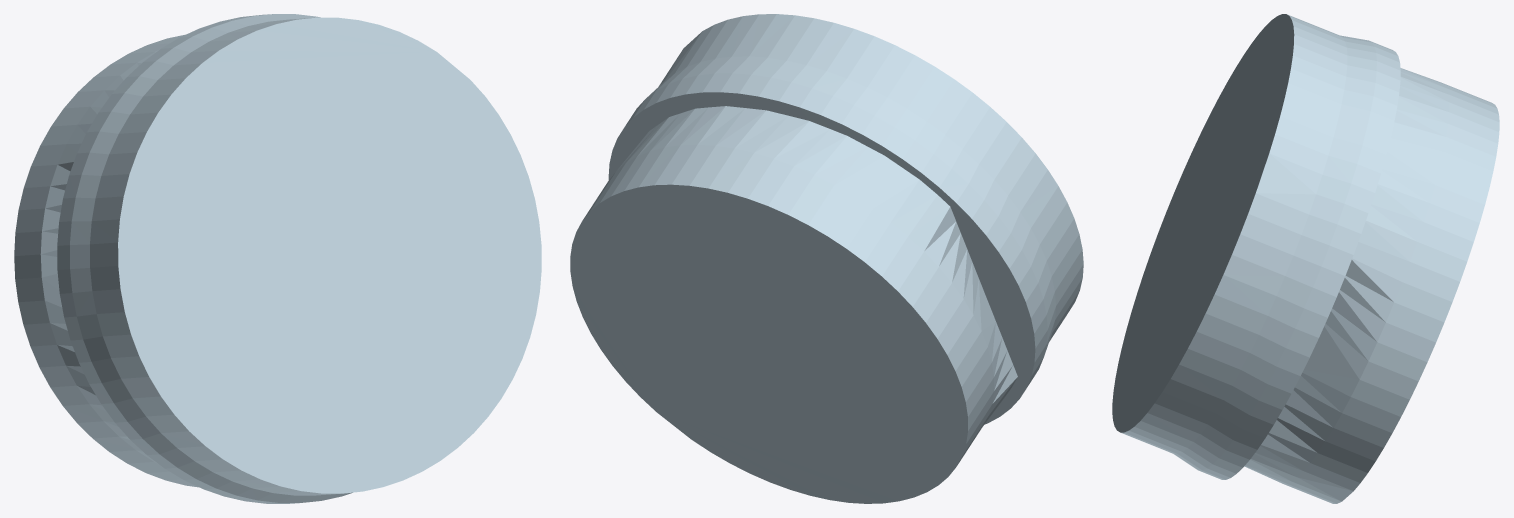
File: left_wrist_z_link_visual_2.obj.balanced.glb
3 renders of one model, left to right at view 1: azimuth 30°, elevation 25°; view 2: azimuth 150°, elevation 25°; view 3: azimuth 270°, elevation 25°, orthographic. The views are drawn at different scales.
Bounding box in the file's own units: 0.125 × 0.1331 × 0.1047.
